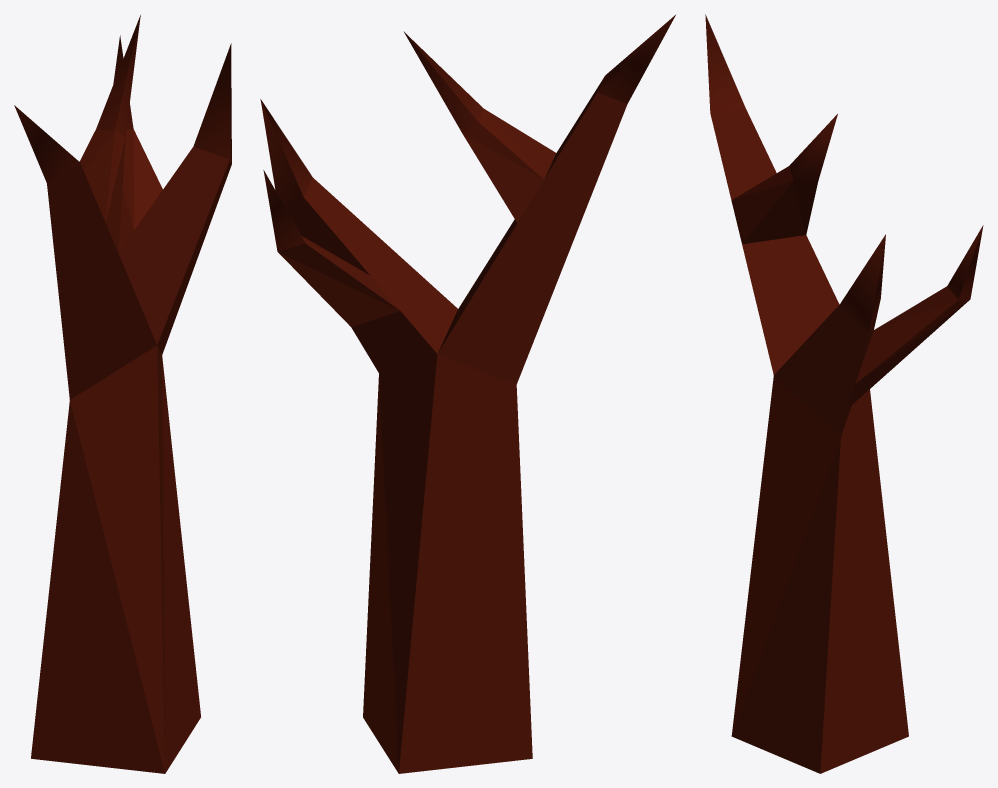
The model's file is tree_wilted.obj.
The picture shows the model from 3 angles, left to right: view 1: azimuth 30°, elevation 25°; view 2: azimuth 150°, elevation 25°; view 3: azimuth 270°, elevation 25°; orthographic projection. The views are drawn at different scales.
Visible parts, largest first — view 1: 柱体; view 2: 柱体; view 3: 柱体.
Part boxes in pixels (<box>): 柱体: <box>14,15,231,773</box>; 柱体: <box>260,15,675,773</box>; 柱体: <box>705,14,983,773</box>.
Bounding box in the file's own units: 1.84 × 4 × 1.55.
